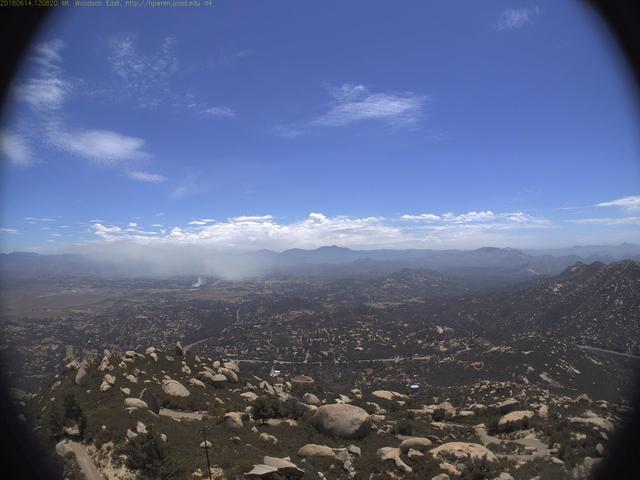smoke: (71, 227, 281, 293)
